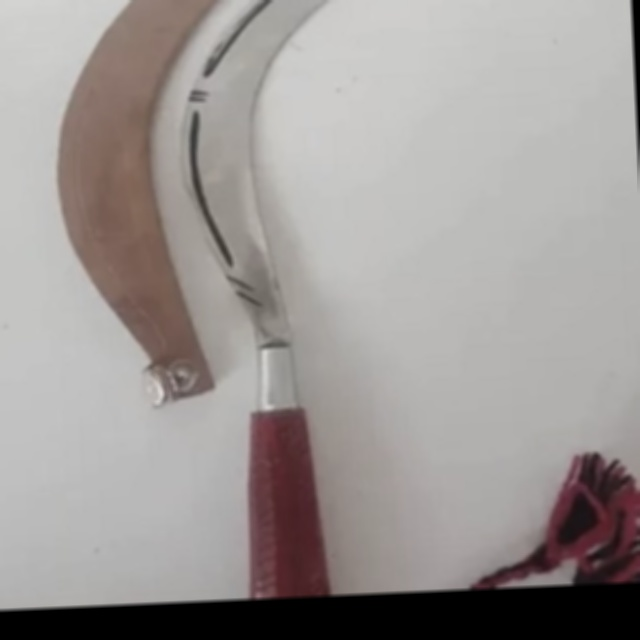Sharp-Object: (169, 0, 454, 593)
